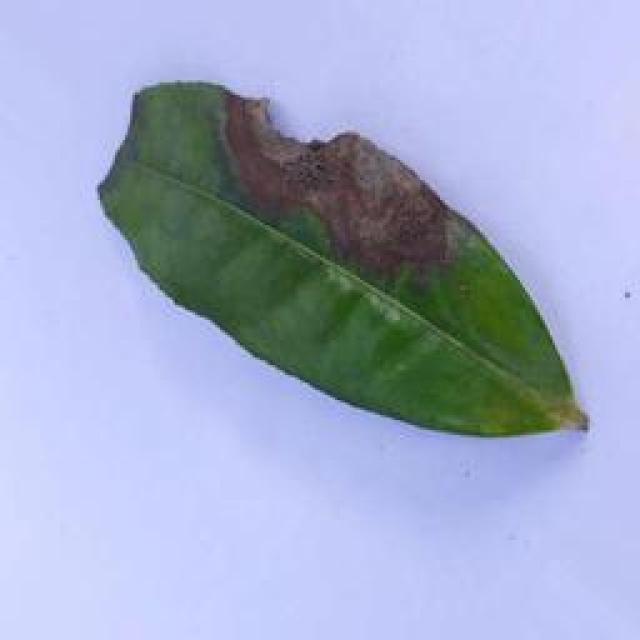Gray Blight: (102, 85, 593, 444)
